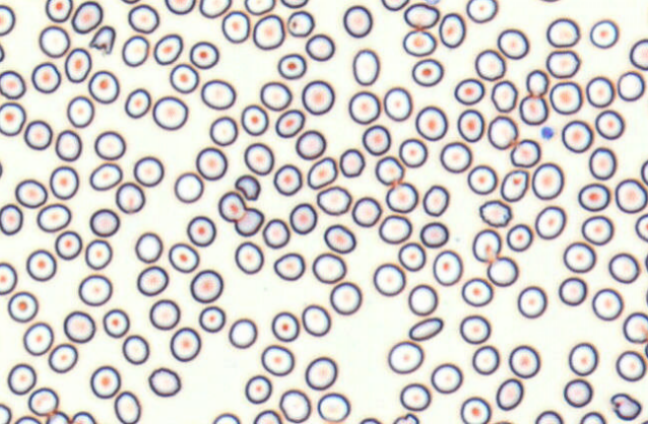PLT: (541, 126, 556, 139)
RBC: (152, 95, 188, 130), (531, 162, 564, 200), (387, 340, 423, 374), (301, 79, 334, 115), (614, 178, 647, 213), (252, 14, 285, 49), (304, 356, 337, 390), (372, 262, 405, 296), (190, 269, 223, 303), (415, 105, 447, 140), (549, 81, 582, 114), (260, 344, 294, 376), (279, 388, 311, 422), (329, 281, 361, 315), (508, 344, 540, 378), (78, 274, 112, 306), (169, 327, 201, 361), (348, 90, 380, 124), (534, 205, 566, 239), (200, 79, 235, 110), (432, 249, 462, 285), (63, 310, 95, 343), (195, 147, 227, 180), (591, 287, 623, 320), (562, 241, 595, 273), (439, 141, 472, 173), (312, 252, 346, 283), (487, 115, 518, 149), (316, 185, 351, 215), (36, 202, 71, 232), (352, 48, 380, 85), (38, 25, 70, 57), (306, 156, 337, 189), (385, 182, 418, 213), (89, 365, 120, 398), (71, 0, 102, 33), (243, 142, 274, 175), (88, 70, 119, 103), (561, 119, 592, 152), (316, 392, 350, 422), (471, 228, 501, 262), (23, 321, 53, 355), (49, 165, 79, 199), (568, 342, 598, 376), (546, 17, 580, 47), (383, 86, 412, 121), (545, 49, 580, 78), (430, 362, 462, 393), (136, 265, 168, 296), (133, 155, 164, 187), (497, 28, 529, 59), (148, 367, 181, 397), (14, 178, 47, 208), (407, 283, 437, 316), (323, 223, 356, 253), (234, 241, 264, 274), (378, 214, 411, 244), (517, 285, 547, 318), (342, 4, 372, 37), (403, 2, 439, 29), (438, 12, 465, 48), (149, 299, 180, 330), (615, 350, 646, 381), (7, 291, 38, 322), (608, 252, 639, 283), (474, 49, 505, 80), (486, 256, 518, 286), (115, 181, 145, 213), (26, 249, 56, 281), (581, 215, 613, 245), (259, 81, 292, 110), (221, 10, 250, 43), (577, 182, 610, 211), (588, 146, 616, 180), (456, 108, 484, 142), (64, 47, 91, 82), (168, 242, 199, 272), (459, 314, 490, 344), (351, 196, 381, 227), (295, 129, 326, 159), (31, 62, 61, 93), (94, 130, 125, 160), (186, 215, 216, 246), (461, 277, 493, 306), (7, 363, 36, 395), (174, 171, 203, 203), (273, 252, 305, 281), (127, 4, 159, 33), (301, 304, 330, 336), (273, 163, 302, 195), (153, 33, 182, 65), (585, 75, 614, 107), (113, 390, 141, 423), (89, 162, 122, 190), (500, 169, 528, 202), (478, 199, 511, 227), (402, 29, 436, 56), (169, 63, 199, 93), (48, 343, 78, 373), (374, 155, 404, 185), (467, 164, 497, 194), (594, 109, 624, 139), (589, 18, 619, 48), (27, 387, 58, 416), (399, 382, 430, 411), (509, 138, 540, 167), (228, 317, 257, 348), (519, 94, 548, 125), (23, 119, 52, 150), (362, 124, 391, 155), (616, 70, 645, 101), (218, 190, 246, 222), (495, 378, 523, 410), (134, 231, 162, 263), (289, 202, 317, 234), (66, 95, 94, 127), (411, 58, 443, 86), (408, 316, 443, 341), (0, 101, 25, 136), (234, 207, 264, 236), (89, 208, 119, 237), (189, 40, 219, 69), (209, 115, 237, 146), (271, 311, 299, 342), (121, 35, 149, 66), (240, 104, 268, 135), (459, 396, 491, 423), (422, 184, 449, 216), (490, 80, 517, 112), (55, 129, 82, 161), (397, 242, 426, 271), (563, 378, 592, 407), (275, 108, 304, 137), (558, 276, 587, 305), (398, 138, 427, 167), (471, 345, 499, 375), (244, 374, 272, 404), (262, 218, 290, 248), (54, 230, 82, 260), (454, 77, 484, 105), (84, 239, 112, 269), (124, 87, 151, 118), (305, 33, 334, 61), (122, 334, 149, 364), (102, 308, 129, 338), (622, 311, 647, 343), (419, 221, 448, 248), (286, 10, 314, 37), (277, 53, 306, 79), (0, 69, 25, 99), (0, 203, 23, 235), (465, 0, 497, 23), (198, 305, 225, 332), (506, 223, 532, 251), (339, 148, 364, 177), (525, 69, 549, 96), (45, 0, 72, 22), (629, 38, 647, 70), (199, 0, 231, 18), (0, 261, 17, 294), (0, 4, 15, 36), (244, 0, 275, 15), (164, 0, 195, 14), (252, 409, 281, 423), (634, 213, 647, 242), (534, 410, 563, 423), (45, 410, 69, 423), (579, 411, 605, 423), (212, 412, 240, 423), (71, 411, 96, 423), (392, 412, 419, 423), (381, 0, 408, 11), (280, 0, 308, 8), (0, 403, 11, 423), (14, 415, 41, 423), (640, 159, 647, 185), (358, 417, 381, 423), (489, 419, 514, 424), (0, 42, 5, 62), (422, 0, 440, 5), (644, 252, 648, 272), (120, 0, 140, 4), (538, 0, 561, 3), (644, 342, 648, 359), (0, 159, 3, 179), (645, 287, 648, 306)
Schistocyte: (611, 393, 644, 421), (89, 26, 117, 54), (235, 174, 262, 202)
